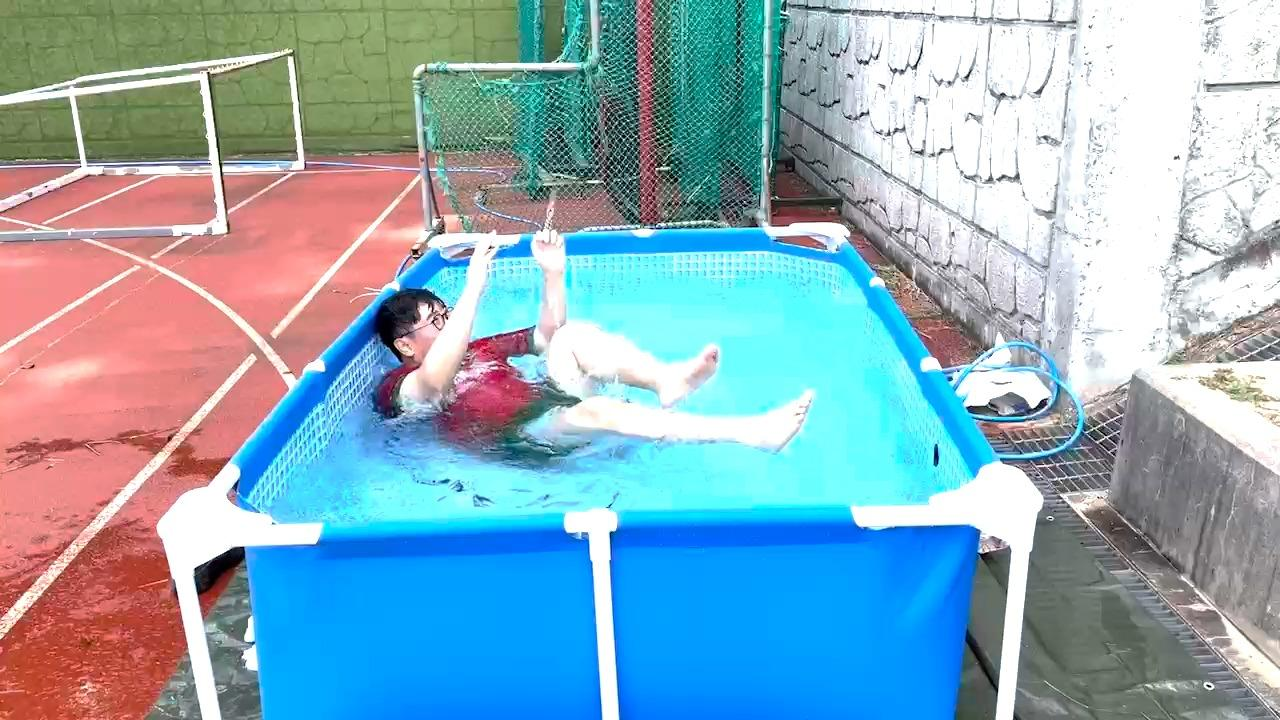Drowning: (383, 249, 726, 472)
